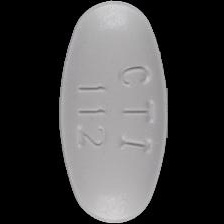42254-133: (0, 0, 224, 224)
